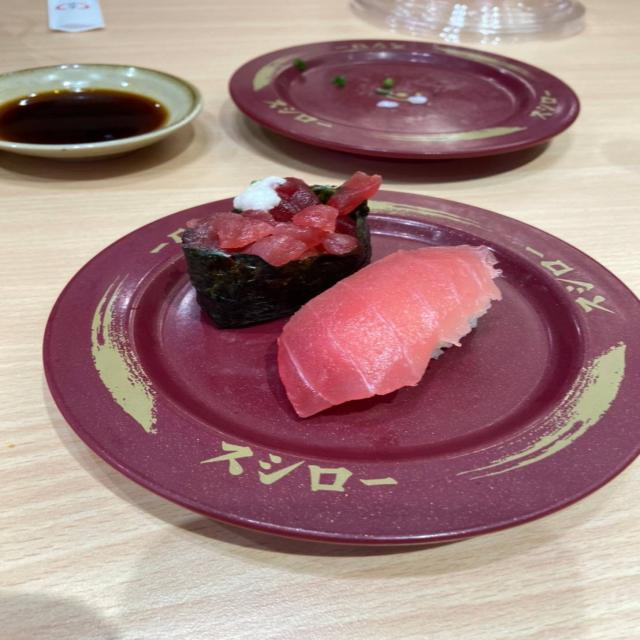janred: (84, 204, 640, 508), (228, 54, 570, 170)
